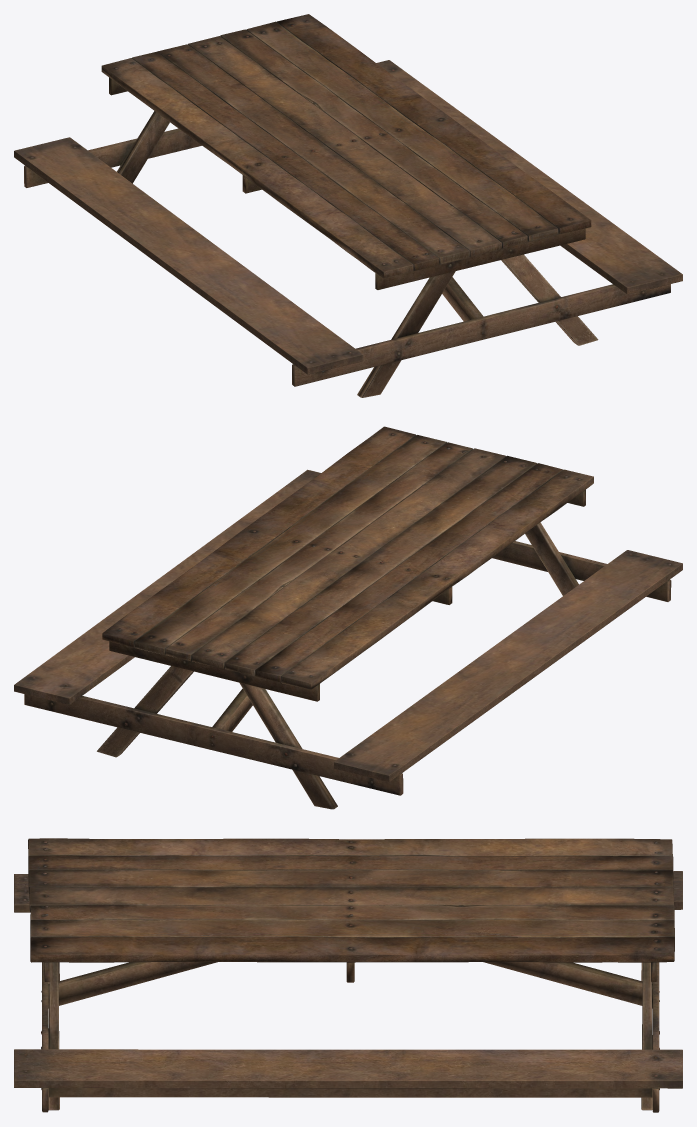
File: wooden_picnic_table.fbx
The picture shows the model from 3 angles, top to bottom: view 1: azimuth 30°, elevation 25°; view 2: azimuth 150°, elevation 25°; view 3: azimuth 270°, elevation 25°; orthographic projection. The views are drawn at different scales.
Visible parts, largest first — view 1: wooden_picnic_table_LOD0; view 2: wooden_picnic_table_LOD0; view 3: wooden_picnic_table_LOD0.
Part boxes in pixels (x1=…): wooden_picnic_table_LOD0: x1=14, y1=14, x2=682, y2=397; wooden_picnic_table_LOD0: x1=14, y1=426, x2=682, y2=809; wooden_picnic_table_LOD0: x1=14, y1=838, x2=682, y2=1112.
Size of what is drawn, in the model's own units: 224 by 74.59 by 302.
2 materials, 2 textured.
